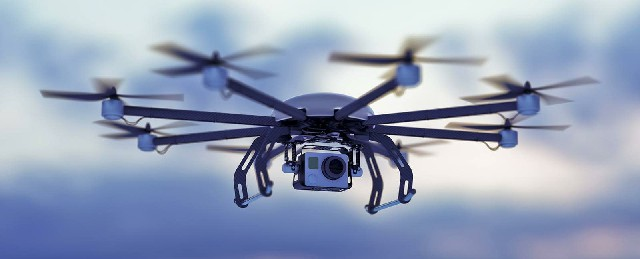maybay_khongnguoilai: (59, 36, 570, 221)
